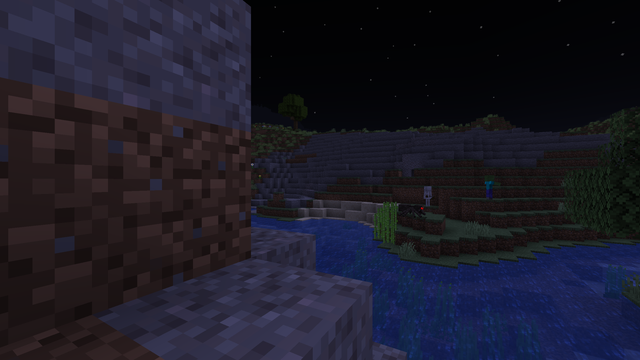araignees: (400, 202, 423, 217)
squelettes: (424, 186, 431, 206)
zombies: (484, 175, 493, 198)
